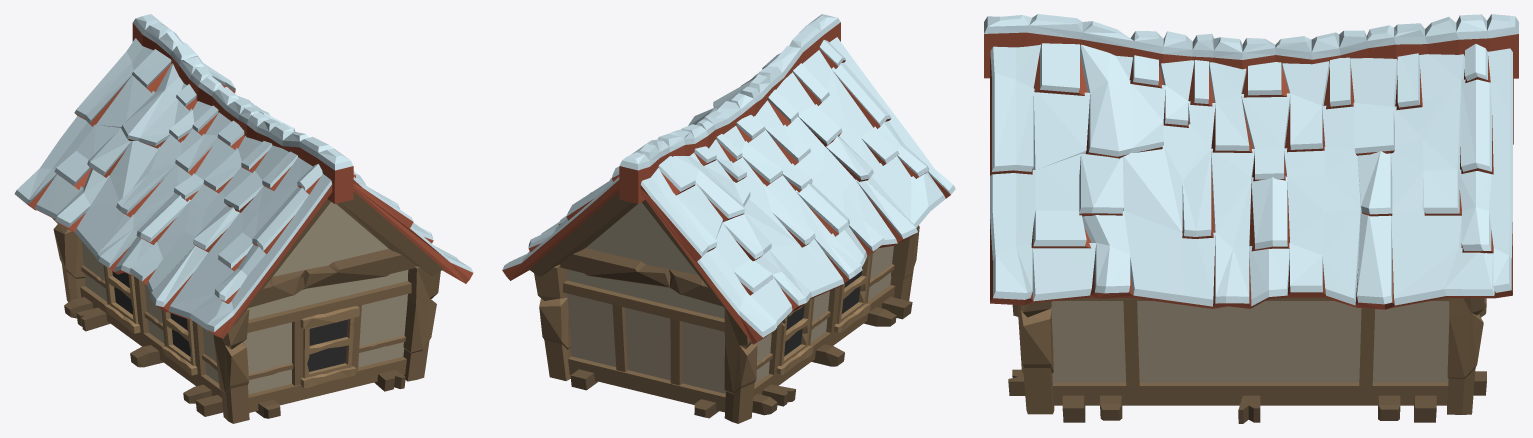
Rendered from SM_Bld_House_RoomTop_03_Snow.gltf.
The picture shows the model from 3 angles, left to right: view 1: azimuth 30°, elevation 25°; view 2: azimuth 150°, elevation 25°; view 3: azimuth 270°, elevation 25°; orthographic projection. The views are drawn at different scales.
Parts seen in each view (by area): view 1: SM_Bld_House_RoomTop_03_Snow; view 2: SM_Bld_House_RoomTop_03_Snow; view 3: SM_Bld_House_RoomTop_03_Snow.
Boxes of the visible parts, left/top/right/bottom form: SM_Bld_House_RoomTop_03_Snow: left=14, top=14, right=473, bottom=423; SM_Bld_House_RoomTop_03_Snow: left=502, top=14, right=955, bottom=423; SM_Bld_House_RoomTop_03_Snow: left=984, top=14, right=1518, bottom=423.
Bounding box in the file's own units: 5.43 × 4.74 × 6.86.
1 material, 1 textured.
